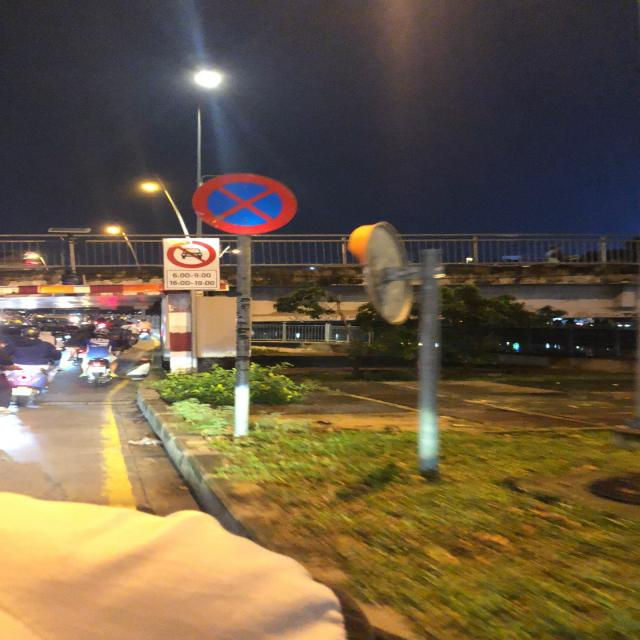Bien bao cam dung xe va do xe: (183, 170, 310, 236)
Bien bao cam xe oto: (167, 236, 220, 270)
